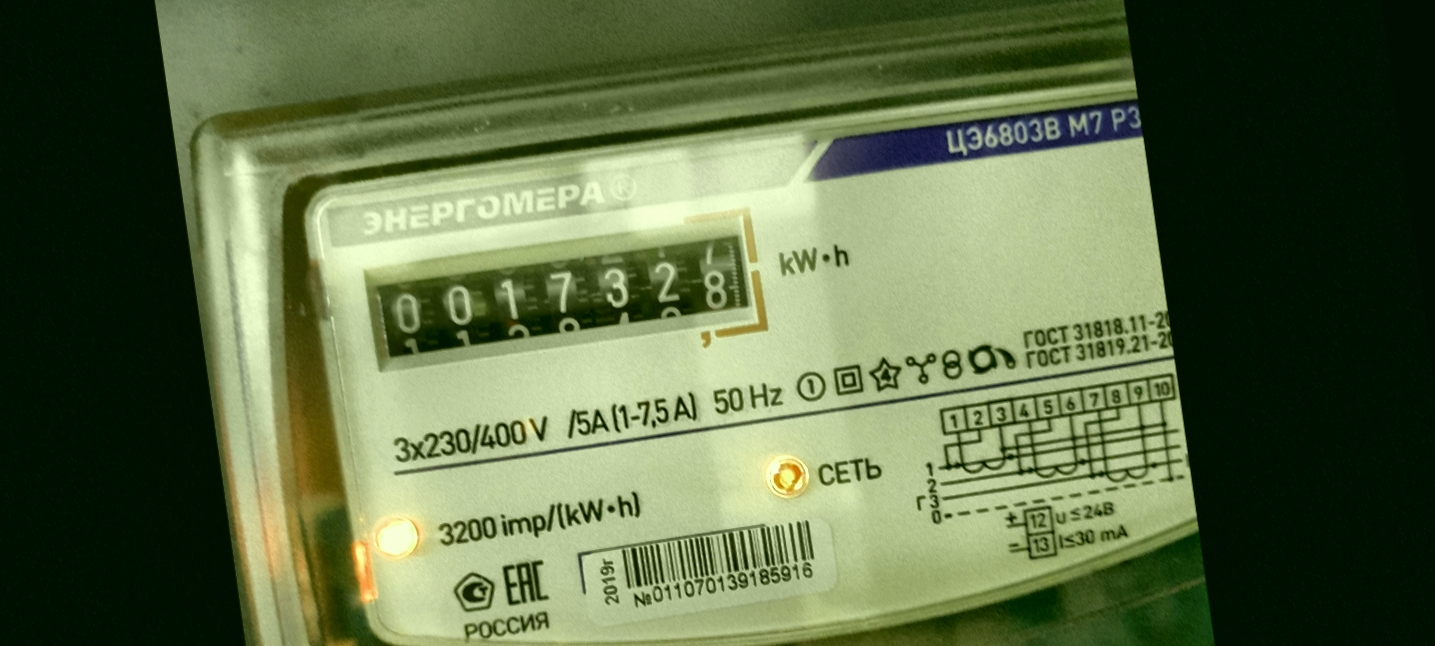0: (387, 291, 425, 339), (440, 281, 475, 330)
1: (494, 276, 521, 324)
2: (646, 259, 681, 307)
3: (597, 265, 630, 312)
7: (544, 269, 577, 319)
8: (697, 268, 728, 313)
screen: (351, 209, 775, 393)
